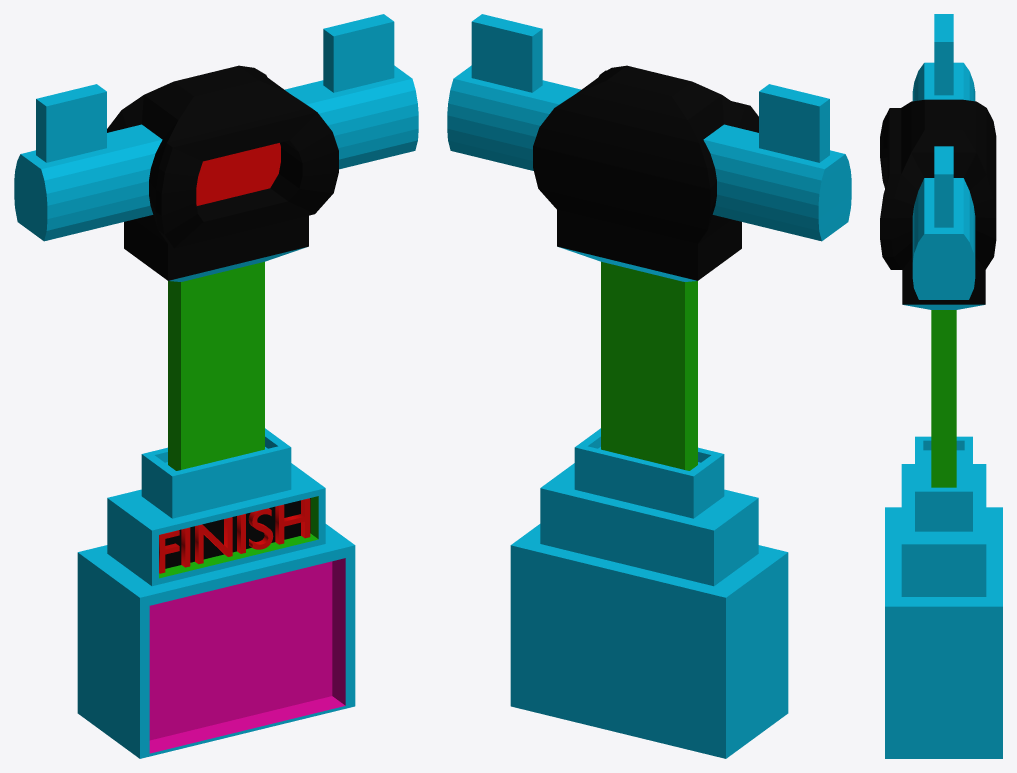
The model's file is finish_tower.fbx.
3 views of the same model, side by side, from view 1: azimuth 30°, elevation 25°; view 2: azimuth 150°, elevation 25°; view 3: azimuth 270°, elevation 25° (orthographic). The views are drawn at different scales.
Parts seen in each view (by area): view 1: FinishGate_Cube.001; view 2: FinishGate_Cube.001; view 3: FinishGate_Cube.001.
Boxes of the visible parts, bbox=[...] form: FinishGate_Cube.001: bbox=[14, 14, 418, 758]; FinishGate_Cube.001: bbox=[447, 14, 851, 758]; FinishGate_Cube.001: bbox=[880, 14, 1002, 758].
Size of the model in its own units: 688 by 1151 by 208.
